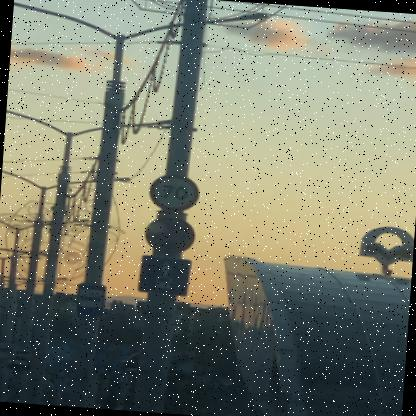speedlimit: (146, 172, 196, 213)
